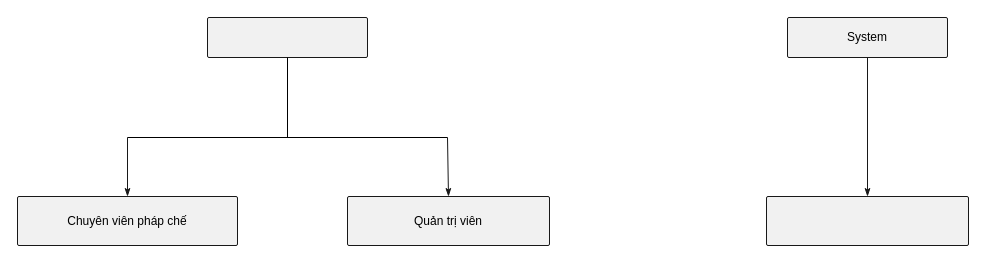
Image size: 986x263. Some labels were removed from this diagram. Here are the shapes that lost their labels. From the top down, the centre of each, then its label:
At point 287,37: "Người dùng".
At point 867,221: "LLM (Ollama)".
